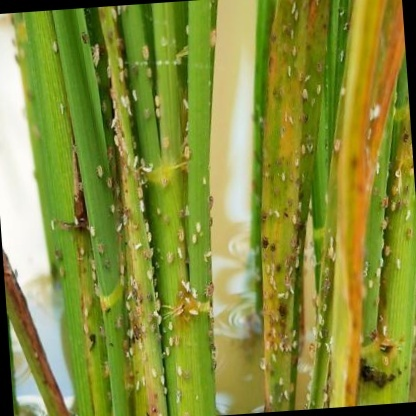Brown_hopper: (201, 28, 218, 52), (89, 42, 103, 71), (136, 42, 151, 67), (177, 145, 193, 167), (326, 139, 342, 159), (372, 218, 391, 234), (147, 94, 165, 110), (310, 80, 325, 99), (372, 195, 392, 208), (47, 37, 58, 59), (172, 387, 184, 407), (105, 115, 120, 131), (140, 247, 154, 264), (275, 169, 288, 187), (294, 142, 307, 159), (297, 87, 310, 104), (91, 166, 103, 184), (305, 341, 315, 361), (96, 321, 105, 343), (123, 345, 134, 363), (269, 342, 284, 355), (317, 390, 329, 406), (141, 221, 150, 242), (100, 359, 108, 382), (378, 244, 392, 257), (104, 204, 116, 219), (128, 86, 137, 105), (171, 364, 182, 379), (293, 70, 308, 81), (53, 248, 63, 264), (94, 244, 105, 258), (175, 227, 184, 244), (114, 315, 123, 332), (180, 99, 189, 116), (156, 373, 166, 388), (187, 308, 199, 320), (286, 46, 297, 59), (164, 320, 173, 335), (172, 334, 181, 349), (377, 324, 386, 339), (164, 250, 172, 266), (56, 266, 64, 282), (159, 178, 168, 192), (379, 354, 388, 368), (403, 230, 414, 241), (272, 377, 283, 388), (187, 233, 196, 246), (274, 291, 283, 304), (146, 323, 155, 336), (165, 334, 174, 347), (148, 366, 157, 379), (281, 387, 287, 406), (193, 221, 201, 235), (102, 259, 110, 273), (145, 267, 153, 281), (269, 352, 277, 366), (153, 334, 163, 345), (113, 221, 122, 233), (386, 203, 395, 215), (152, 108, 161, 120), (314, 313, 322, 326), (288, 330, 297, 341), (365, 279, 373, 291), (319, 302, 327, 314), (289, 340, 297, 352), (144, 291, 151, 304), (132, 381, 139, 394), (161, 347, 169, 357), (373, 268, 380, 279), (407, 165, 413, 177), (160, 388, 168, 397), (316, 330, 322, 341), (266, 208, 271, 216)
